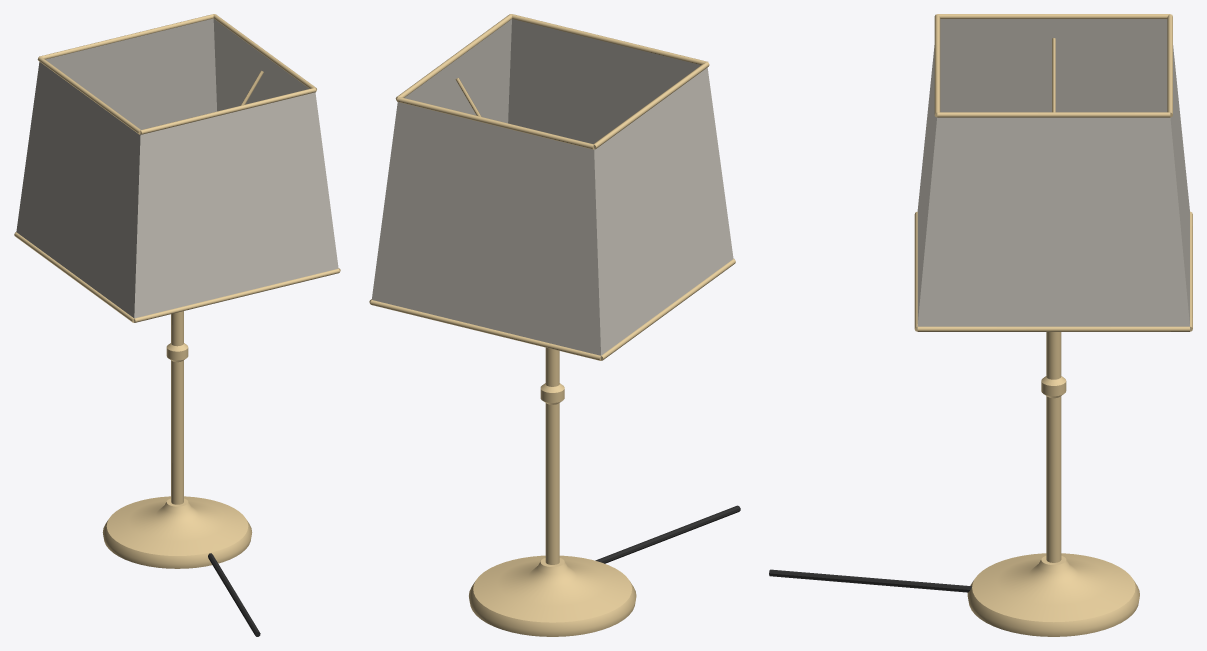
The model's file is Dim_Lamp.fbx.
3 renders of one model, left to right at view 1: azimuth 30°, elevation 25°; view 2: azimuth 150°, elevation 25°; view 3: azimuth 270°, elevation 25°, orthographic. The views are drawn at different scales.
Visible parts, largest first — view 1: Lamp_Shade, Lamp_Body; view 2: Lamp_Shade, Lamp_Body; view 3: Lamp_Shade, Lamp_Body.
Part boxes in pixels (left/top/right/bottom): Lamp_Shade: left=16, top=18, right=338, bottom=318; Lamp_Body: left=14, top=14, right=340, bottom=636; Lamp_Shade: left=371, top=19, right=733, bottom=357; Lamp_Body: left=369, top=14, right=740, bottom=636; Lamp_Shade: left=917, top=19, right=1190, bottom=328; Lamp_Body: left=769, top=14, right=1192, bottom=636.
Size of the model in its own units: 0.245 by 0.5225 by 0.3733.
